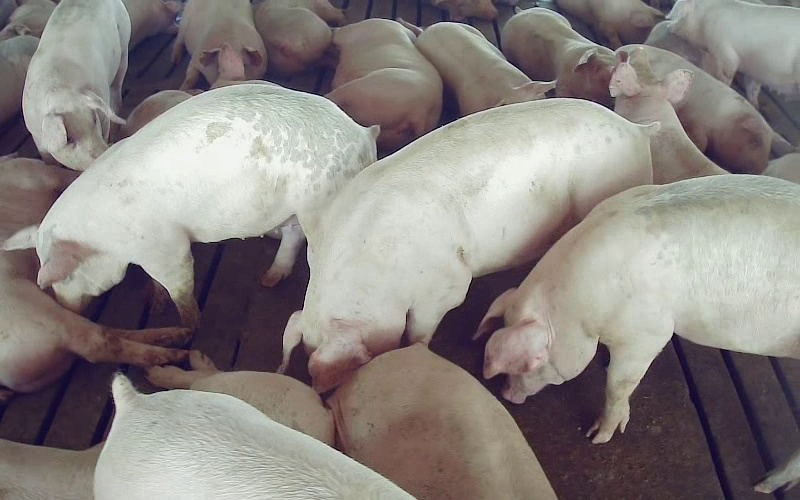pig: (282, 100, 658, 391), (4, 83, 377, 327), (477, 174, 799, 442), (95, 374, 413, 499), (326, 343, 555, 499), (616, 45, 788, 173), (609, 48, 726, 183), (326, 19, 442, 155), (668, 0, 799, 105), (415, 22, 555, 115), (502, 7, 628, 107), (172, 0, 266, 90), (254, 0, 345, 76)
